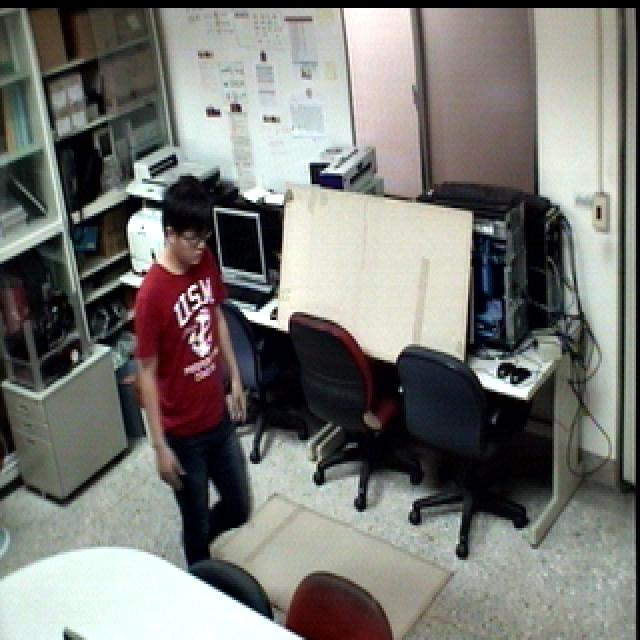stand: (126, 160, 259, 578)
